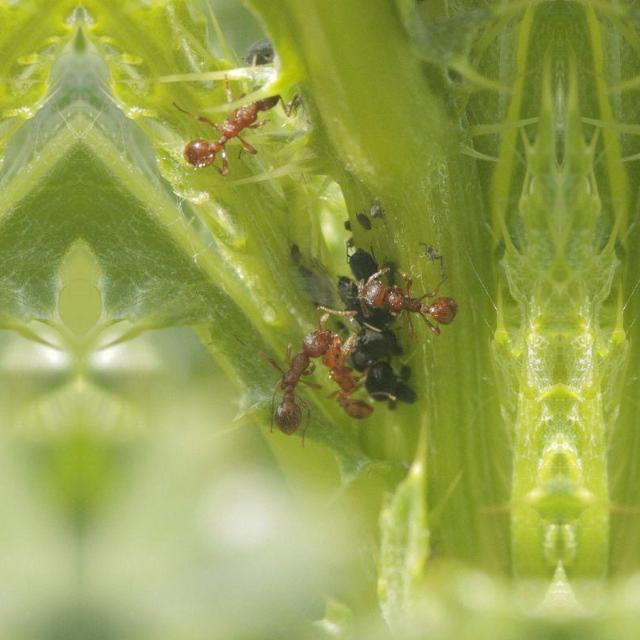Myrmica: (352, 255, 468, 343), (171, 79, 265, 171), (322, 319, 400, 413), (273, 310, 325, 430)
